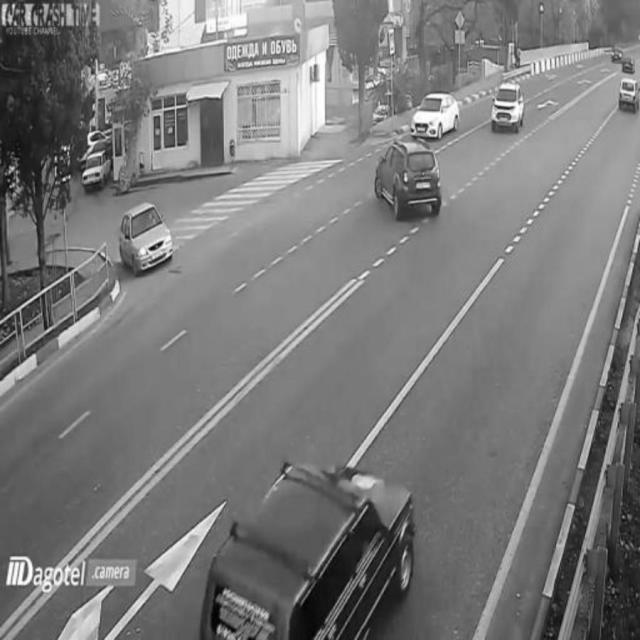vehicle: (202, 460, 419, 635), (377, 142, 443, 215), (118, 201, 175, 269), (411, 90, 462, 138), (490, 81, 526, 131), (83, 148, 109, 195), (614, 74, 640, 120)
